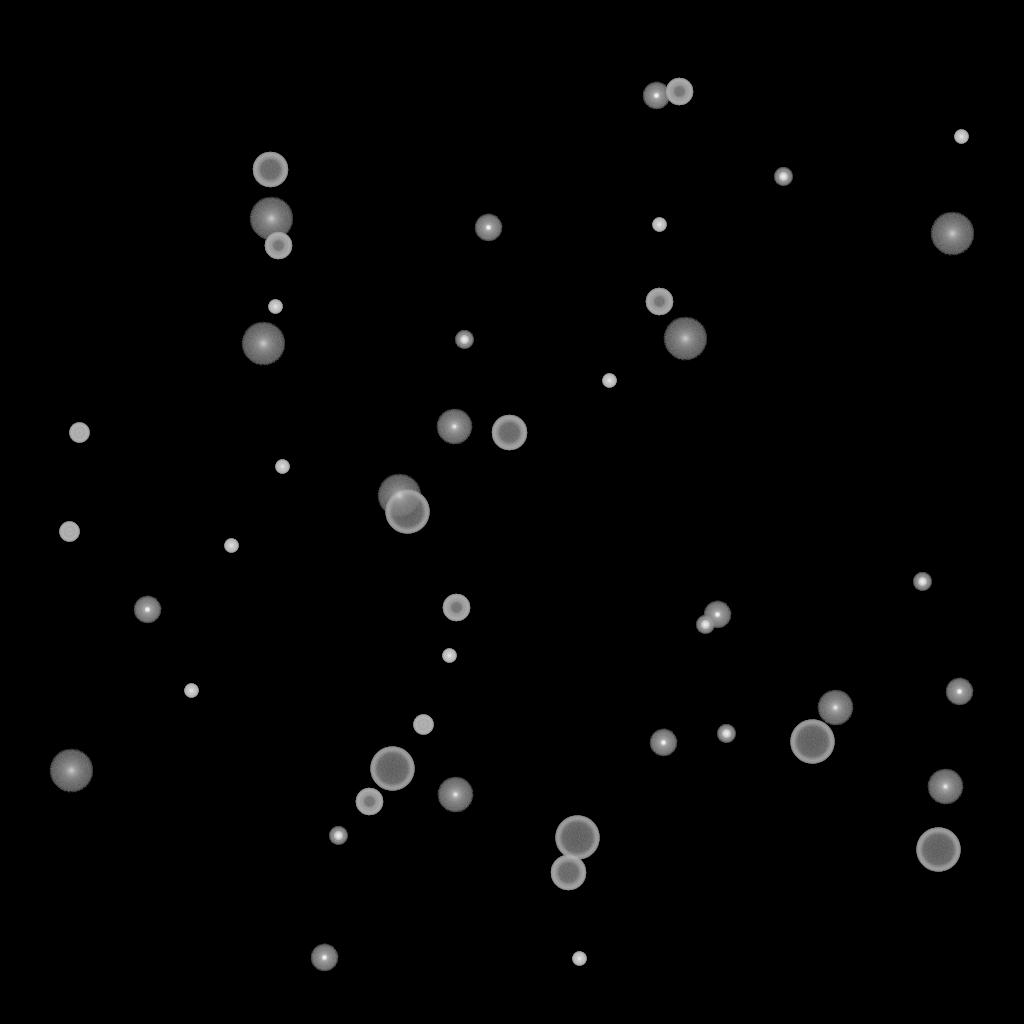depth:-10: (310, 944, 338, 972), (703, 601, 731, 629), (474, 214, 502, 242), (649, 729, 677, 757), (945, 678, 973, 706), (642, 82, 670, 110), (133, 596, 161, 624)
depth:-20: (329, 827, 347, 845), (455, 331, 473, 349), (913, 573, 931, 591), (717, 725, 735, 743), (696, 616, 714, 634), (774, 168, 792, 186)
depth:-30: (184, 684, 198, 698), (602, 374, 616, 388), (275, 460, 289, 474), (572, 952, 586, 966), (268, 300, 282, 314), (652, 218, 666, 232), (954, 130, 968, 144), (224, 539, 238, 553), (442, 649, 456, 663)
depth:-40: (69, 423, 89, 443), (413, 715, 433, 735), (59, 522, 79, 542)
depth:-50: (665, 78, 693, 106), (355, 788, 383, 816), (645, 288, 673, 316), (264, 232, 292, 260), (442, 594, 470, 622)
depth:-60: (550, 855, 586, 891), (491, 415, 527, 451), (252, 152, 288, 188)
depth:-70: (370, 747, 414, 791), (555, 816, 599, 860), (790, 720, 834, 764), (916, 828, 960, 872), (385, 490, 429, 534)
depth:0: (927, 769, 963, 805), (436, 409, 472, 445), (817, 690, 853, 726), (437, 777, 473, 813)
depth:10: (49, 749, 93, 793), (663, 317, 707, 361), (241, 322, 285, 366), (249, 197, 293, 241), (377, 474, 421, 518), (930, 212, 974, 256)
